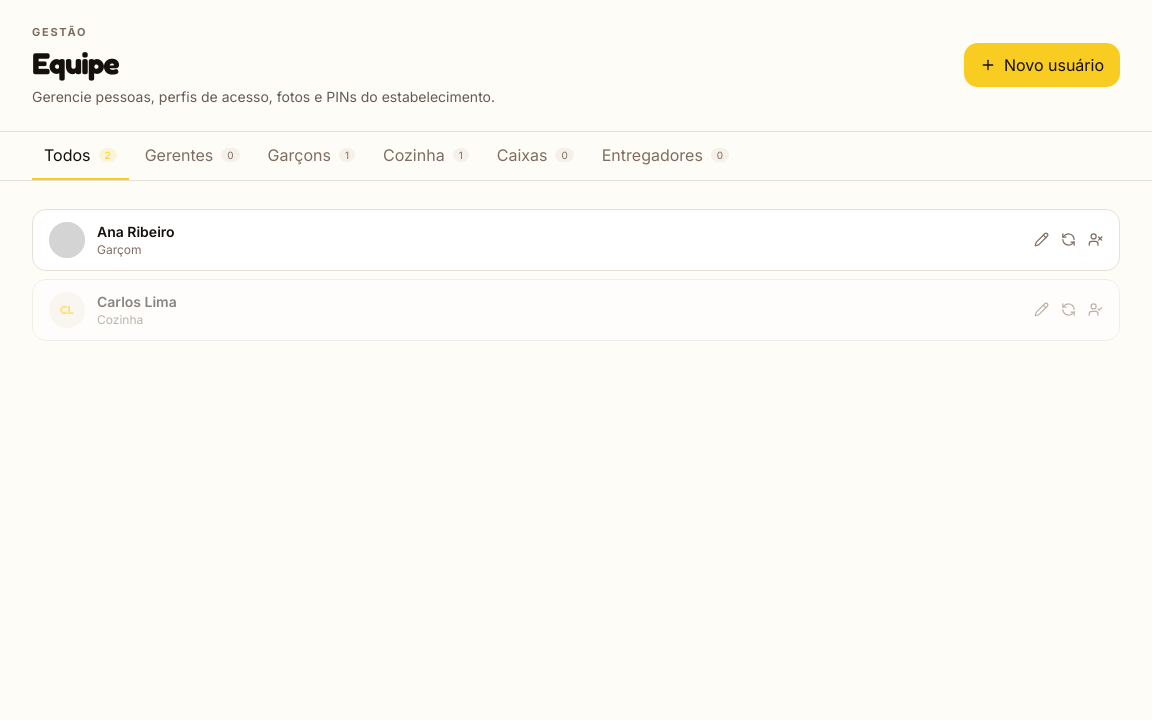
Test: UsersTab › preserva o PIN e fecha o modal se a criação funciona, mas a recarga falha
The image size is (1152, 720).
Expected: the text "Ana Ribeiro" is shown, top-left (97, 222), bottom-right (175, 242)
Click the button "Novo usuário": (1042, 65) top-left (964, 43), bottom-right (1120, 87)
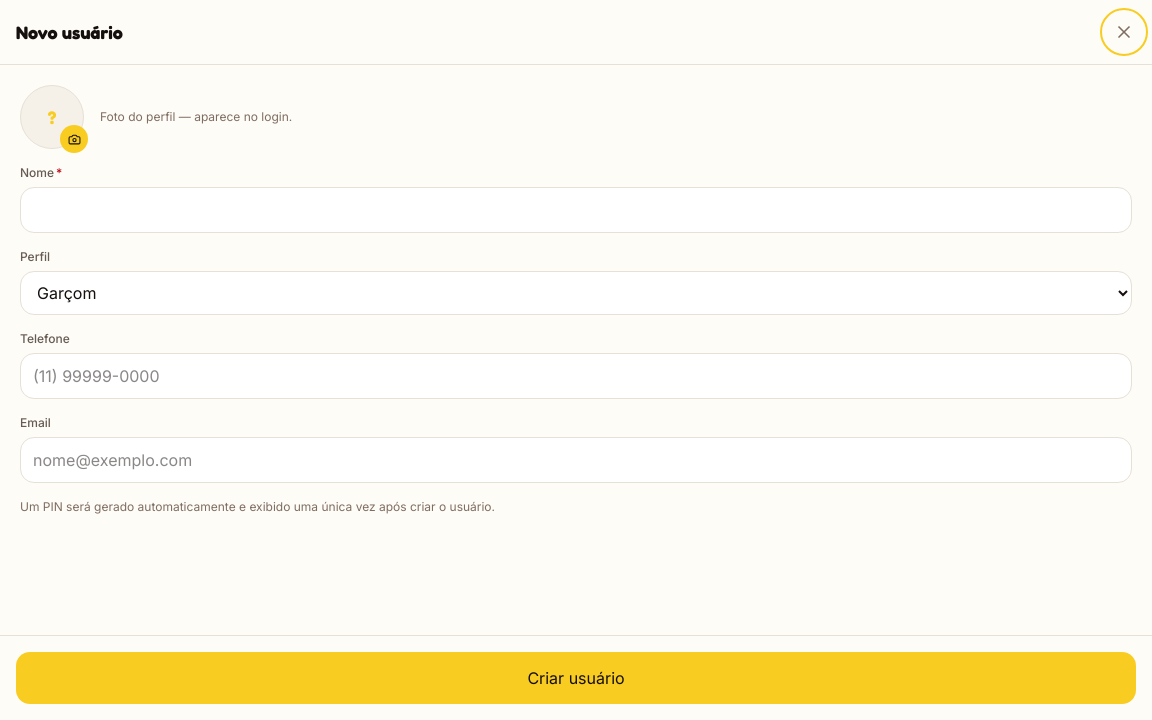
In the field labelled "Nome*": (576, 210) top-left (20, 187), bottom-right (1132, 233), type "Beatriz Souza"
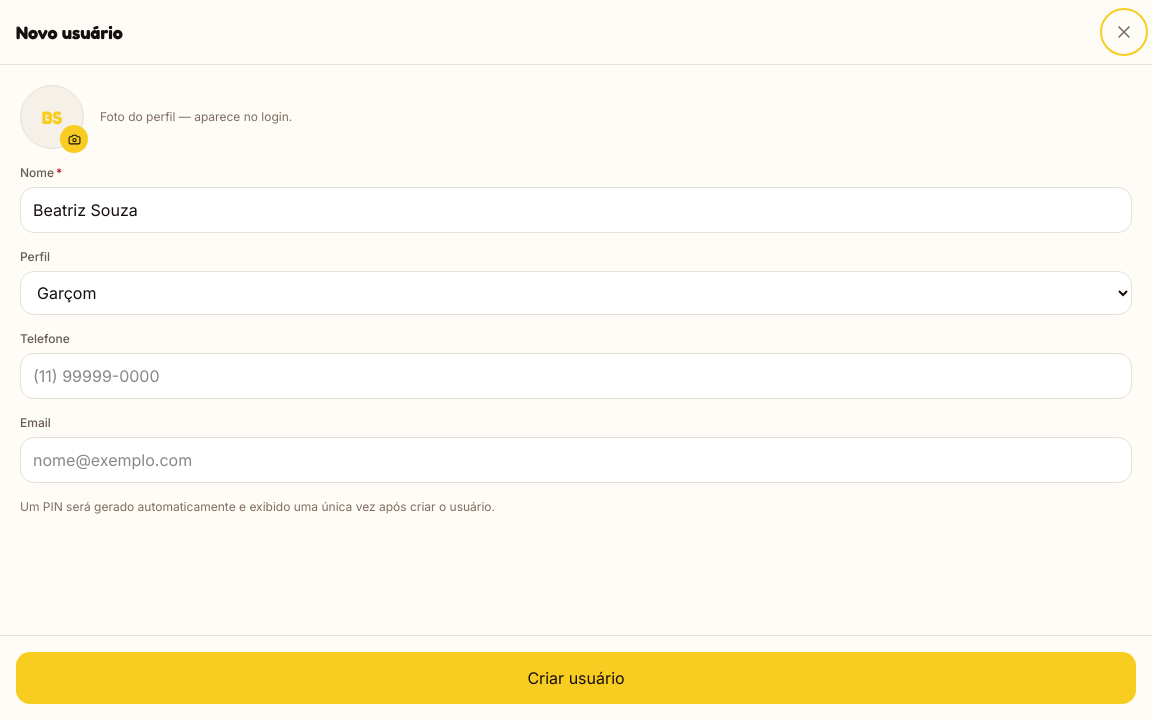
Click the button "Criar usuário": (576, 678) top-left (16, 652), bottom-right (1136, 704)
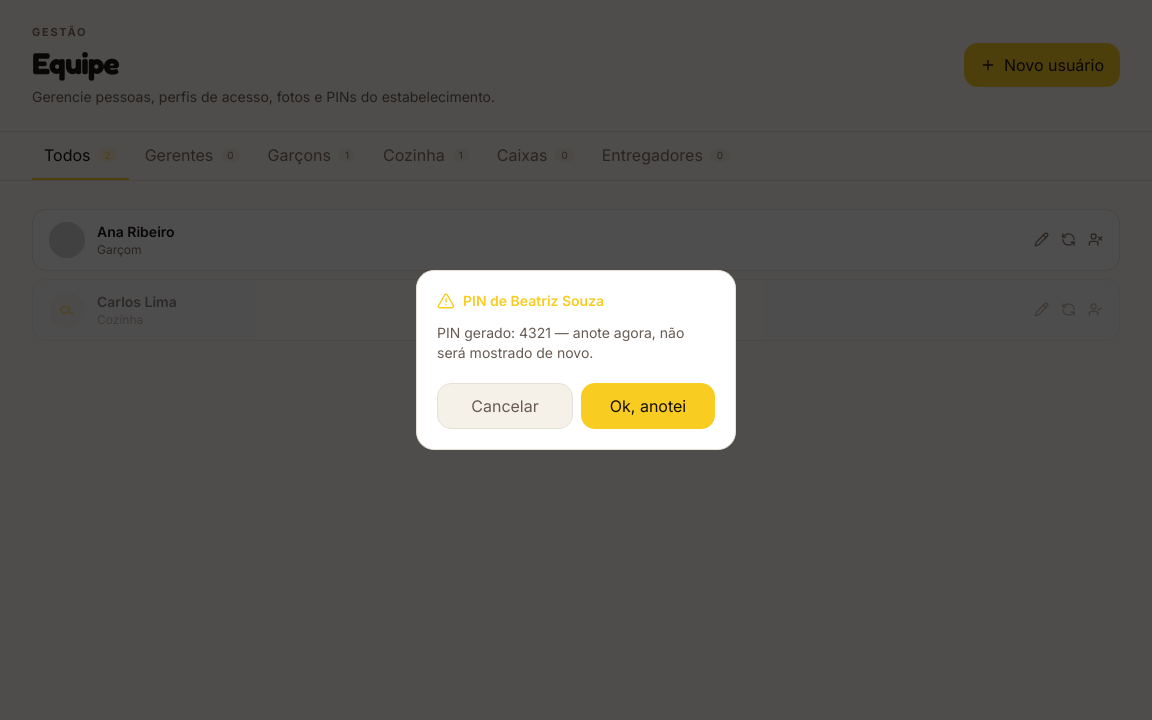
Now the text "PIN gerado: 4321 — anote agora, não será mostrado de novo." is shown, box top-left (437, 323), bottom-right (715, 363)
